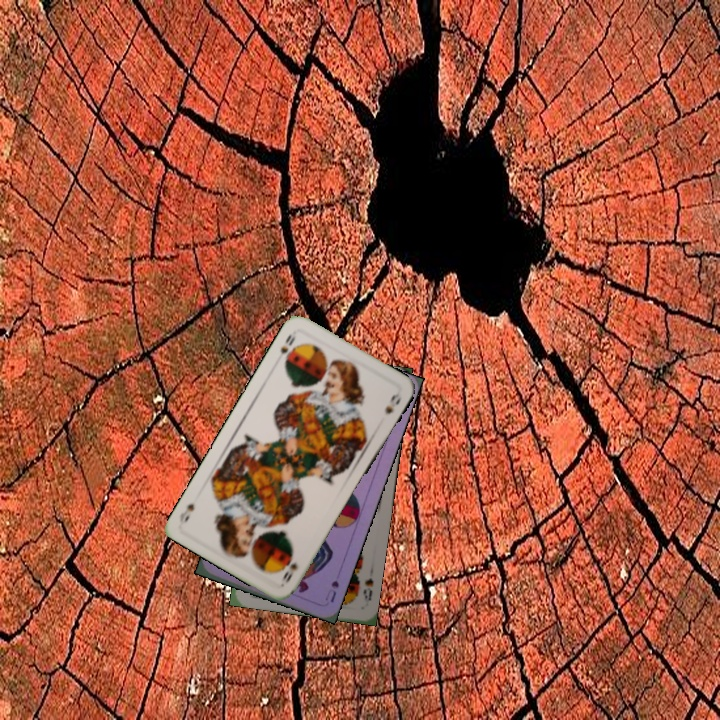S8: (359, 574, 376, 608)
SO: (276, 331, 298, 367), (278, 558, 300, 586)
SU: (321, 576, 342, 605)
